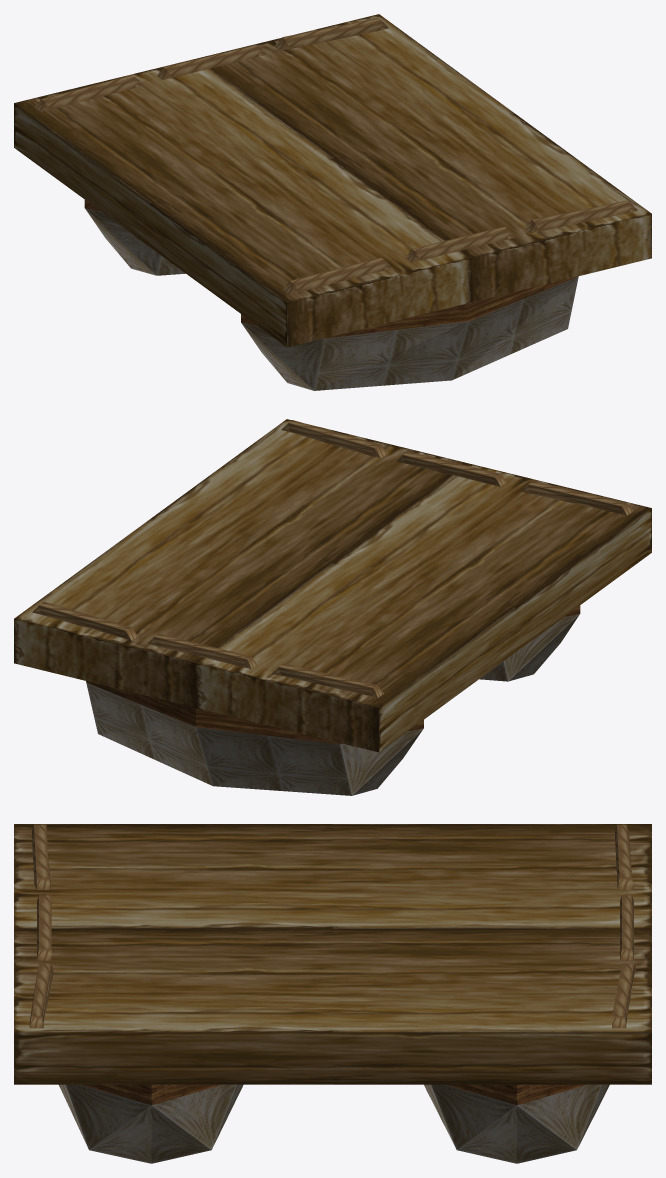
File: pontoonfive-lod1.glb
3 views of the same model, one above another, from view 1: azimuth 30°, elevation 25°; view 2: azimuth 150°, elevation 25°; view 3: azimuth 270°, elevation 25° (orthographic). The views are drawn at different scales.
Visible parts, largest first — view 1: pontoonfive-lod1; view 2: pontoonfive-lod1; view 3: pontoonfive-lod1.
Part boxes in pixels (x1,y1,x2,y2): pontoonfive-lod1: [14, 14, 651, 390]; pontoonfive-lod1: [14, 419, 651, 795]; pontoonfive-lod1: [14, 824, 651, 1163].
Bounding box in the file's own units: 4.87 × 2.15 × 6.31.
4 materials, 4 textured.
